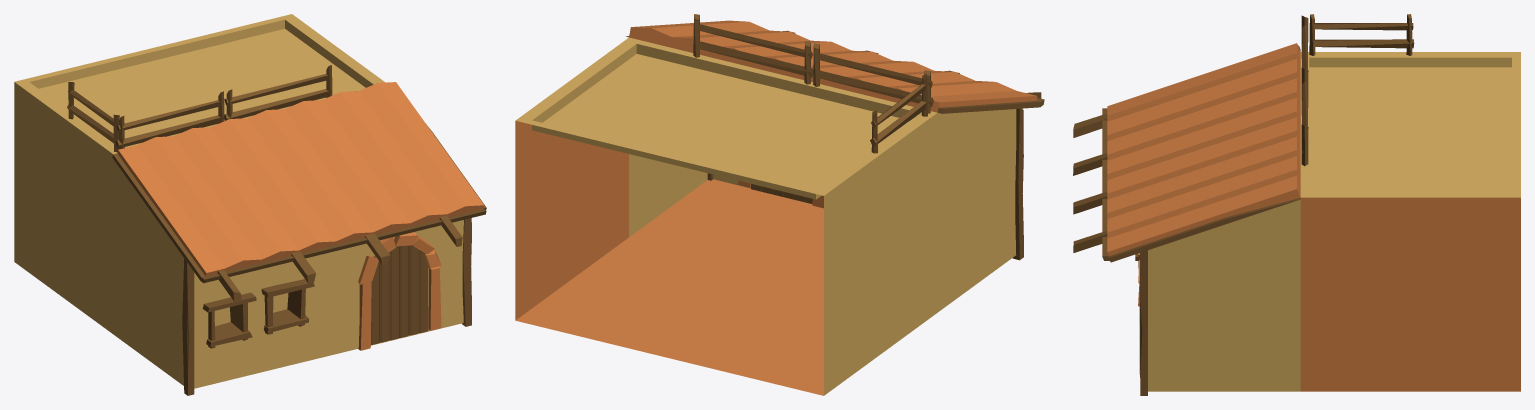
The model's file is House1.fbx.
3 renders of one model, left to right at view 1: azimuth 30°, elevation 25°; view 2: azimuth 150°, elevation 25°; view 3: azimuth 270°, elevation 25°, orthographic. The views are drawn at different scales.
Visible parts, largest first — view 1: House1; view 2: House1; view 3: House1.
Part boxes in pixels (x1,y1,x2,y2): House1: (14, 14, 486, 395); House1: (515, 14, 1044, 395); House1: (1073, 14, 1520, 395).
Size of the model in its own units: 920 by 682 by 1162.
